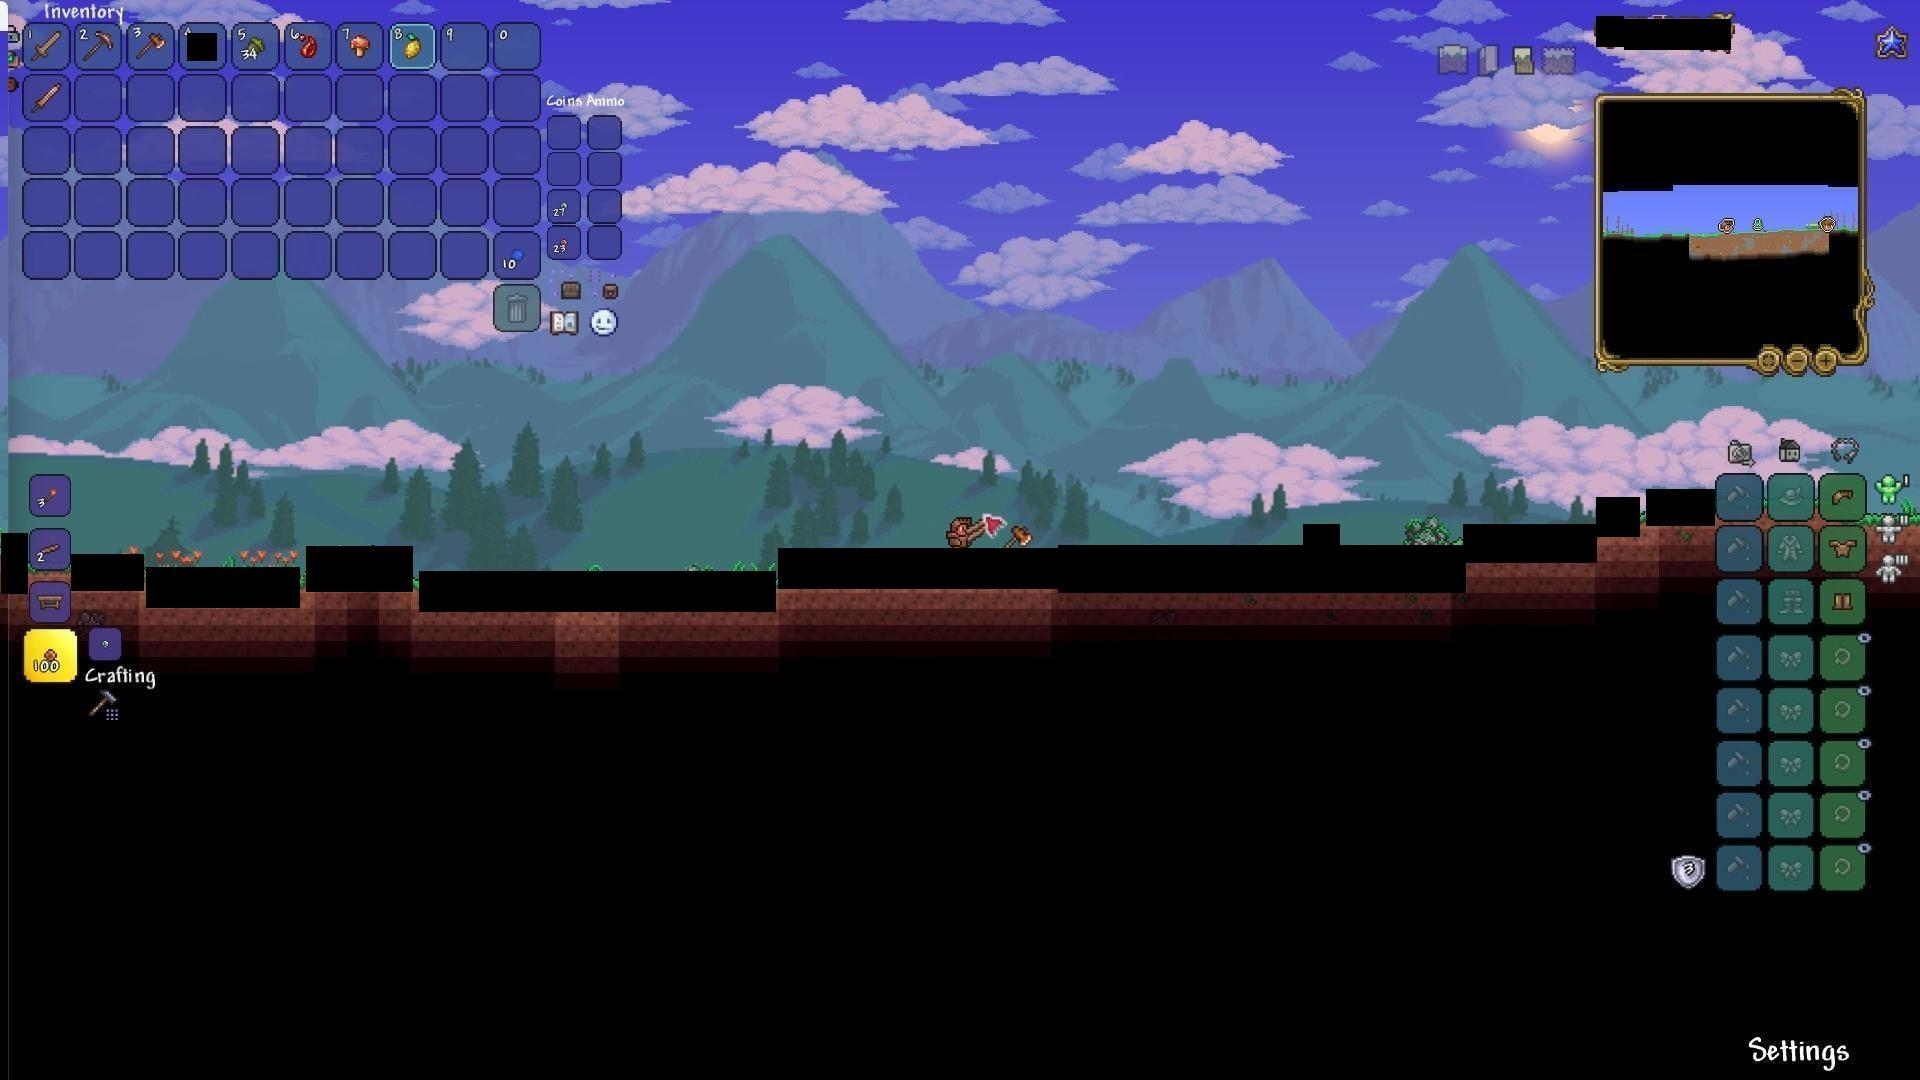breastplate: (1830, 537, 1859, 558)
helmet: (1829, 483, 1859, 510)
legs: (1830, 588, 1855, 617)
workbench: (32, 589, 67, 615)
